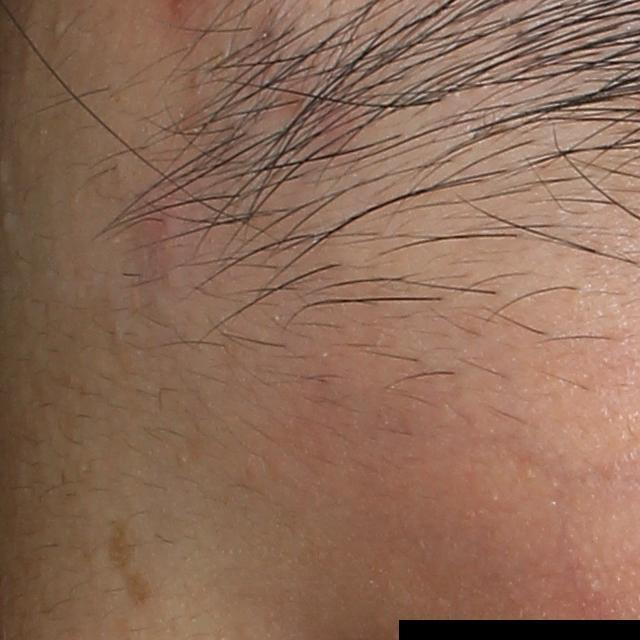melasma: (99, 515, 158, 614)
